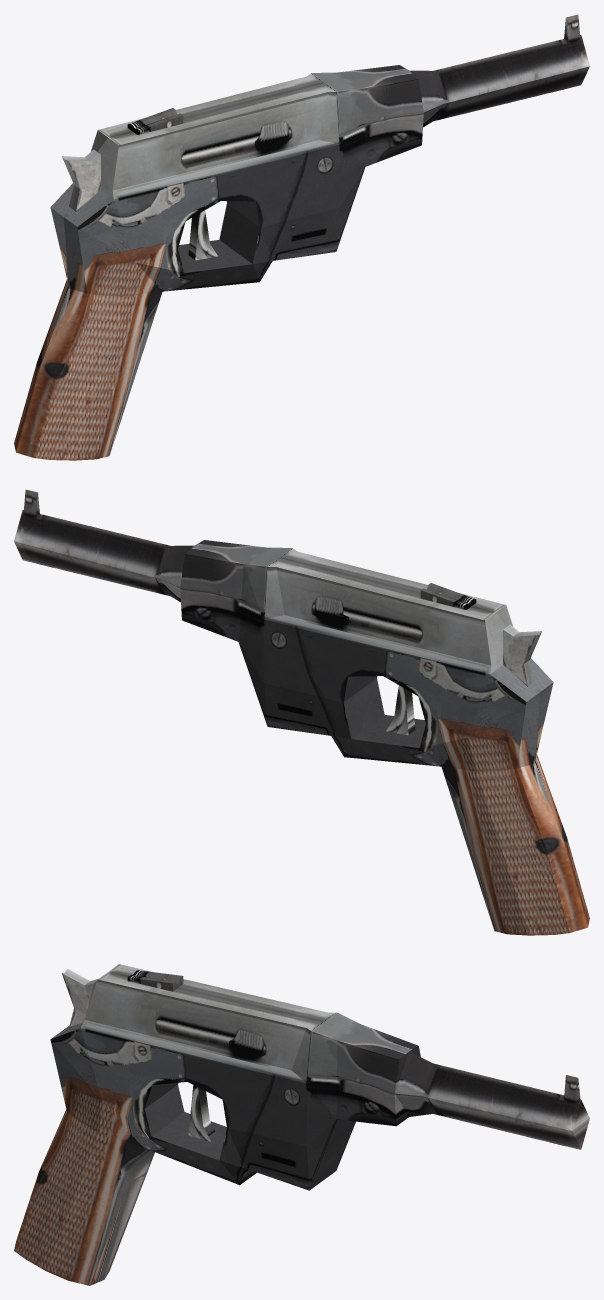
File: bergthier gs5.glb
3 renders of one model, top to bottom at view 1: azimuth 30°, elevation 25°; view 2: azimuth 150°, elevation 25°; view 3: azimuth 330°, elevation 25°, orthographic.
Parts seen in each view (by area): view 1: Bergther GS5; view 2: Bergther GS5; view 3: Bergther GS5.
Part boxes in pixels (left/top/right/bottom): Bergther GS5: left=14, top=14, right=589, bottom=460; Bergther GS5: left=14, top=489, right=589, bottom=935; Bergther GS5: left=14, top=964, right=589, bottom=1285.
Bounding box in the file's own units: 0.2577 × 0.1386 × 0.0263.
Materials: 1 (1 with a texture image).
